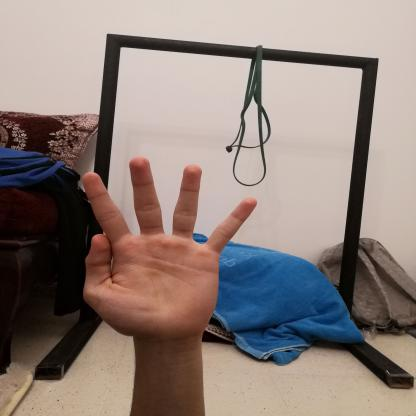SHEEN: (59, 148, 268, 346)
